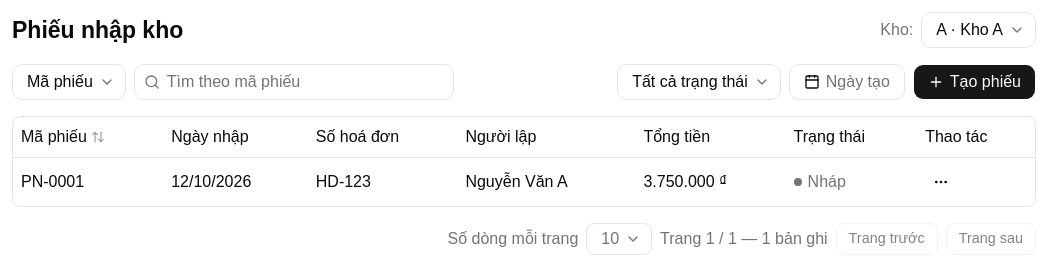
Test case: ImportFormsPage › bấm chữ "Kho:" ở đầu trang thì mở ô chọn kho (label gắn thật)
Expected: the link "PN-0001" is shown, [21,172,84,190]
Click the text "Kho" at x=897, y=30, box [880,18,913,42]
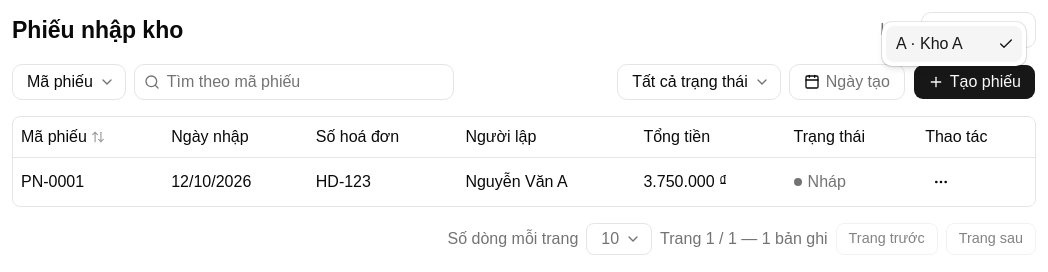
Expected: the dropdown labelled "Kho" is expanded, [921,12,1036,48]
